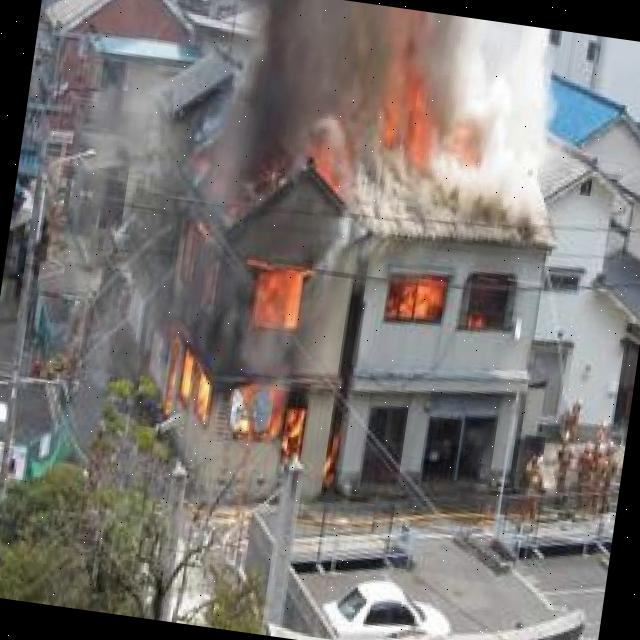fire: (143, 199, 380, 496), (365, 80, 487, 172), (390, 276, 494, 336)
